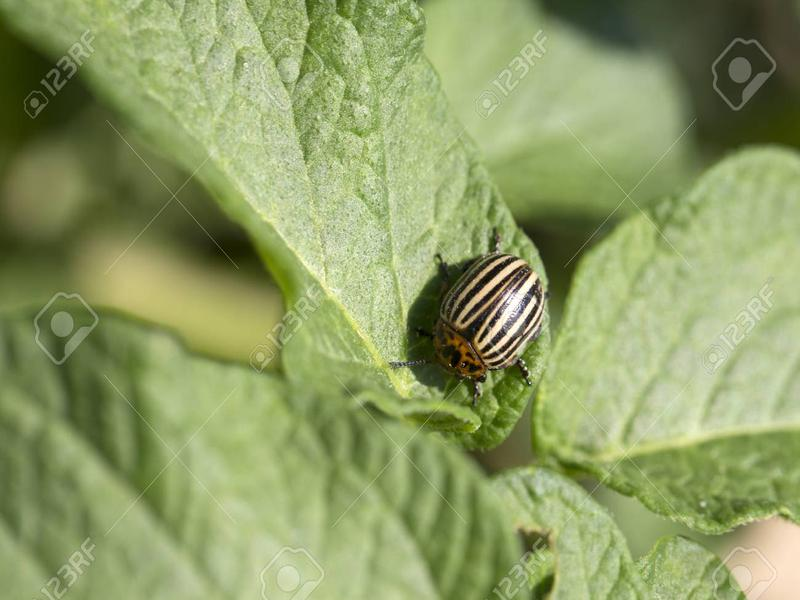hrosc: (426, 247, 544, 396)
